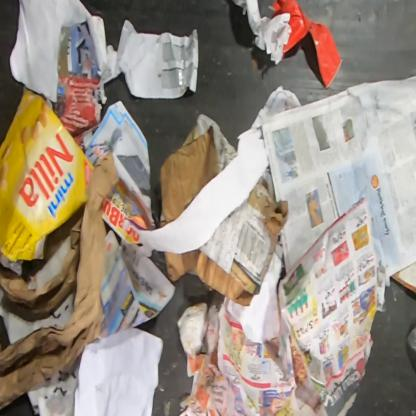cardboard: (121, 125, 269, 258), (0, 85, 96, 263), (164, 173, 288, 306), (158, 113, 237, 230), (390, 259, 415, 295)
rigid_plastic: (268, 0, 344, 89)
soft_plastic: (405, 325, 416, 356)
